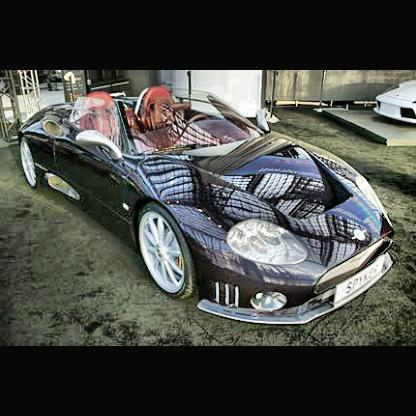Spyker C8 Convertible 2009: (20, 82, 397, 328)
